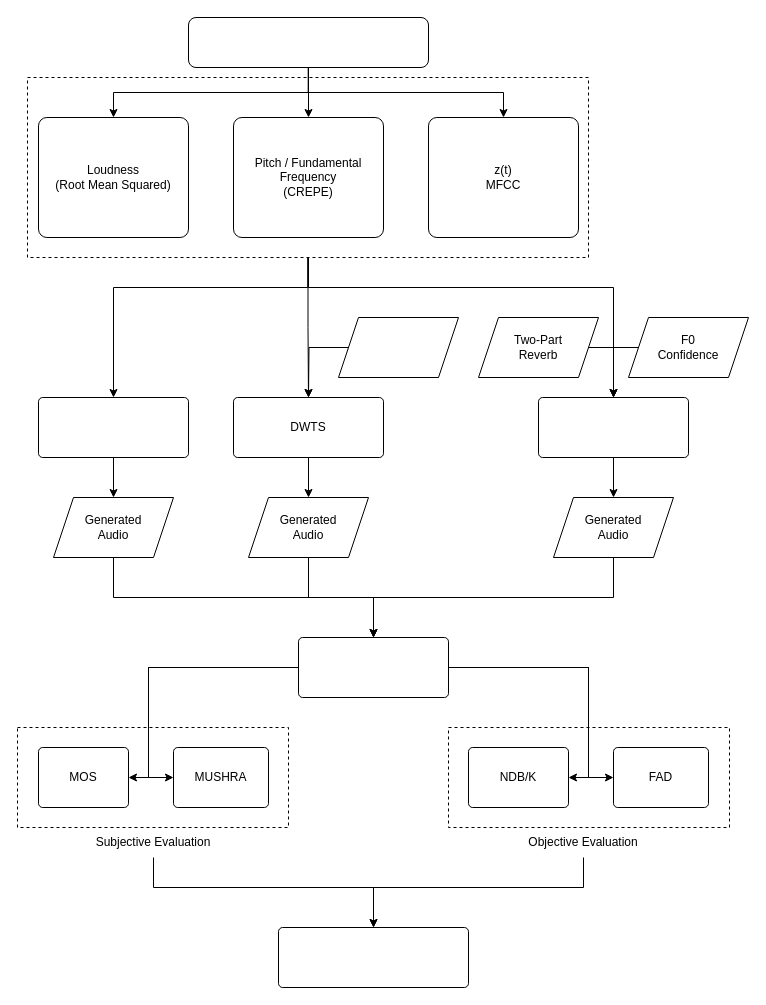
The diagram is 766 pixels wide and 1005 high, and some of its shapes have lost their labels. Each missing label, with the centre of its shape:
"Comparative Analysis" belongs at point 373,957.
"DDSP (Base)" belongs at point 113,427.
"Evaluation" belongs at point 373,667.
"Gathering Dataset (Nsynth)" belongs at point 308,42.
"NIC" belongs at point 613,427.
"Wavetable Dictionary" belongs at point 398,347.
